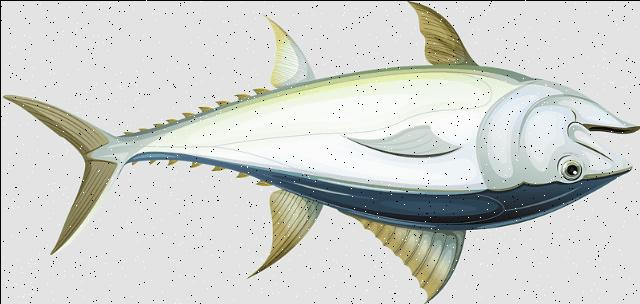Mulut: (572, 105, 640, 189)
Sirip Anal: (256, 9, 320, 96)
Sirip Dada: (342, 120, 458, 165)
Sirip Ekor: (2, 84, 108, 260)
Sirip Perut: (400, 0, 477, 75)
Sirip Punggung: (256, 188, 468, 300)
